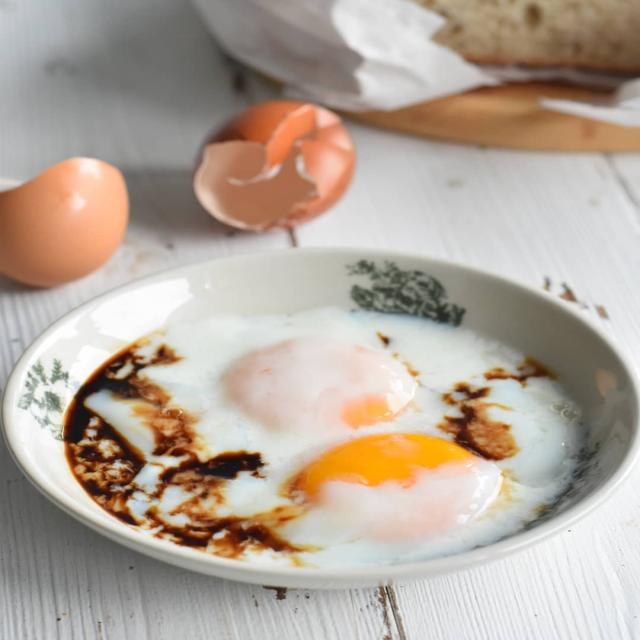eggs: (152, 277, 558, 550)
